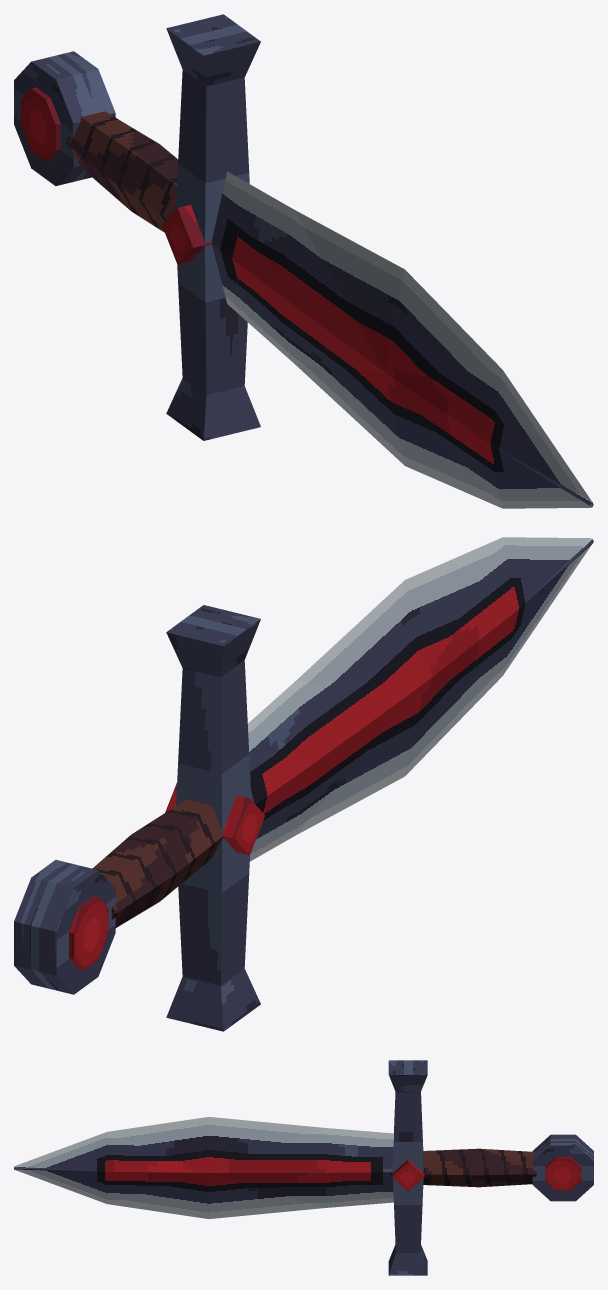
The model's file is messer-b-kreuzblatt.glb.
3 views of the same model, one above another, from view 1: azimuth 30°, elevation 25°; view 2: azimuth 150°, elevation 25°; view 3: azimuth 270°, elevation 25° (orthographic). The views are drawn at different scales.
Visible parts, largest first — view 1: knife; view 2: knife; view 3: knife.
Boxes of the visible parts, bbox=[...] form: knife: bbox=[14, 14, 593, 508]; knife: bbox=[14, 537, 593, 1031]; knife: bbox=[14, 1060, 593, 1275].
Size of the model in its own units: 0.0353 by 0.18 by 0.4713.
Materials: 1 (1 with a texture image).
